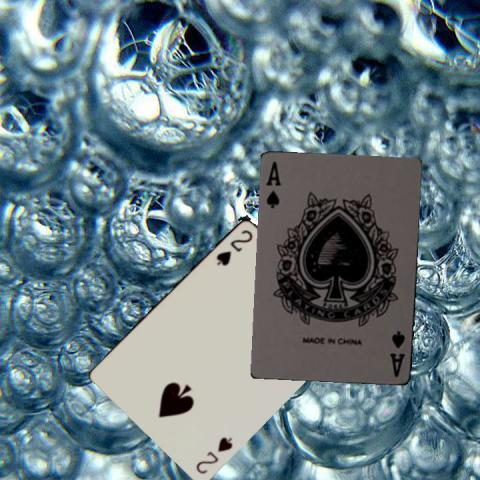2s: (212, 226, 254, 267), (193, 433, 234, 475)
As: (263, 158, 283, 210), (387, 328, 407, 379)
